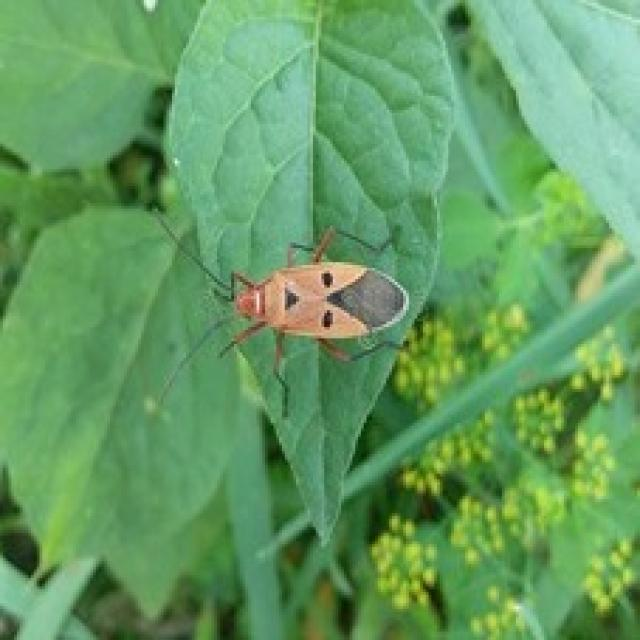Rust: (227, 254, 409, 352)
